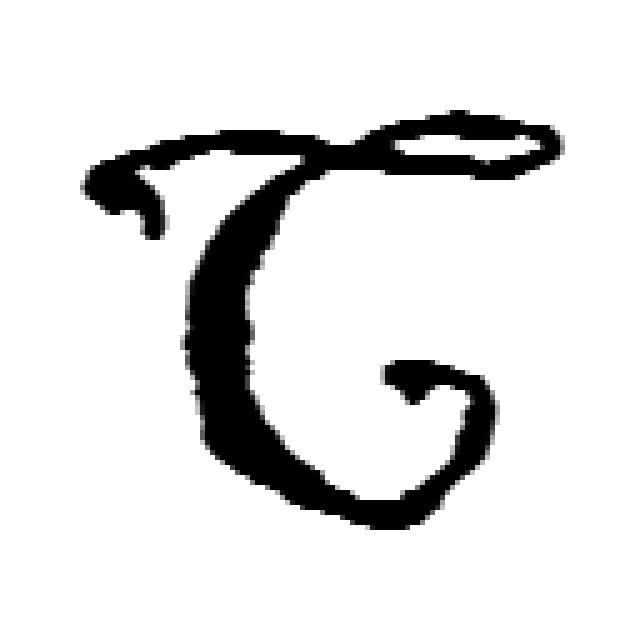C: (80, 110, 565, 535)
